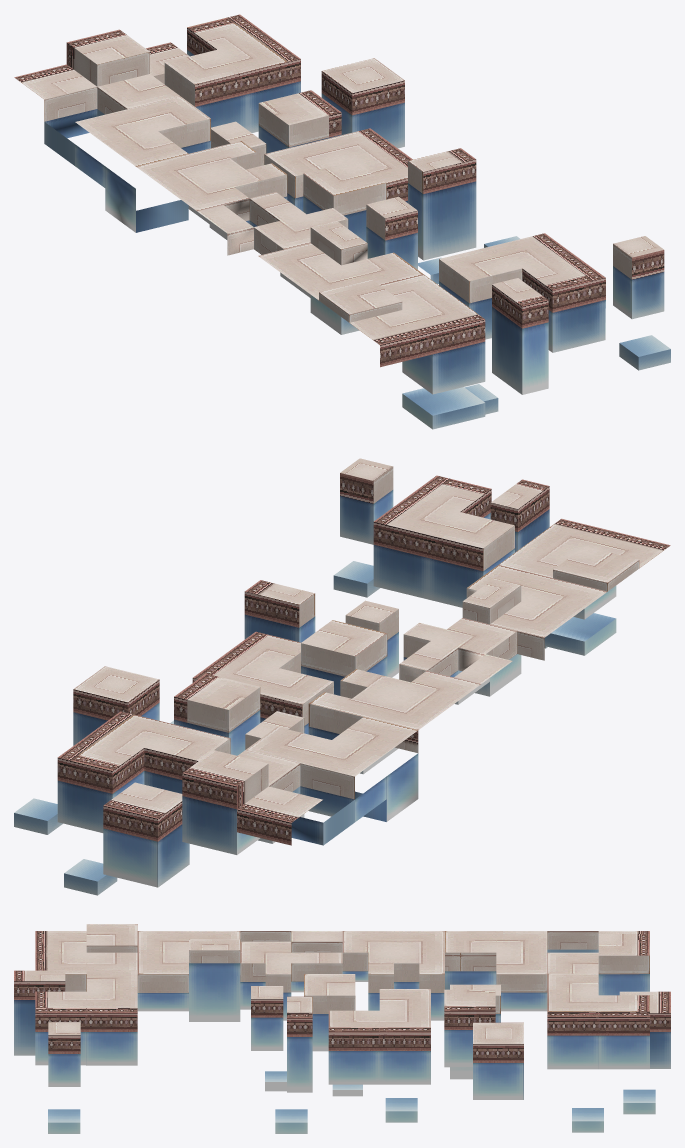
The model's file is a_ESDway05.glb.
The picture shows the model from 3 angles, top to bottom: view 1: azimuth 30°, elevation 25°; view 2: azimuth 150°, elevation 25°; view 3: azimuth 270°, elevation 25°; orthographic projection. The views are drawn at different scales.
Parts seen in each view (by area): view 1: a_ESDway05; view 2: a_ESDway05; view 3: a_ESDway05.
Boxes of the visible parts, x1,y1,x2,y2 form: a_ESDway05: [14, 14, 670, 429]; a_ESDway05: [14, 458, 670, 895]; a_ESDway05: [14, 924, 670, 1133].
Size of the model in its own units: 2.83 by 1.22 by 6.41.
4 materials, 4 textured.
